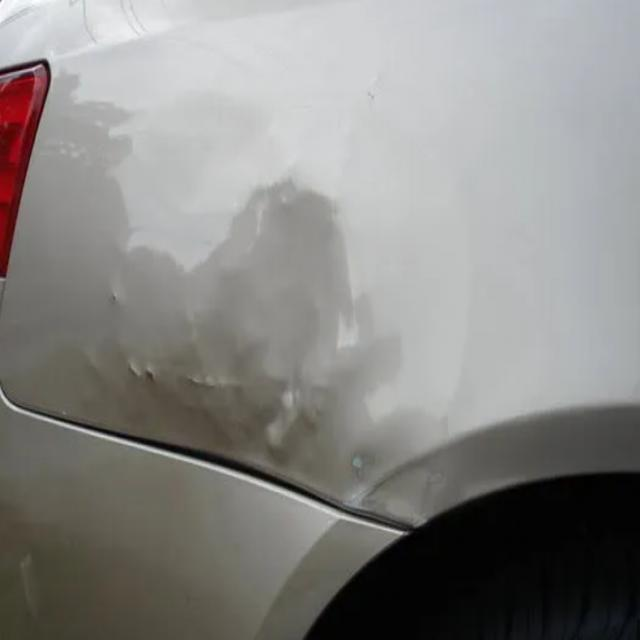dents: (200, 196, 370, 400), (326, 427, 398, 515), (260, 368, 315, 460), (118, 348, 176, 412), (94, 267, 146, 327)
